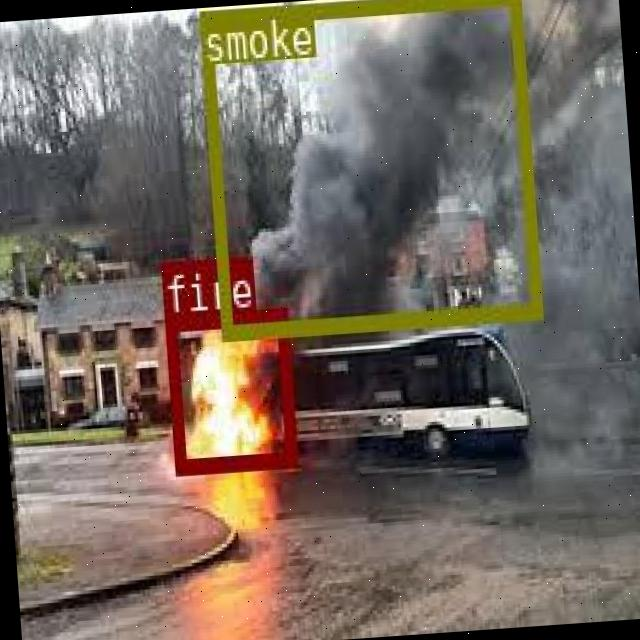fire: (162, 304, 294, 470)
smoke: (198, 0, 539, 336)
